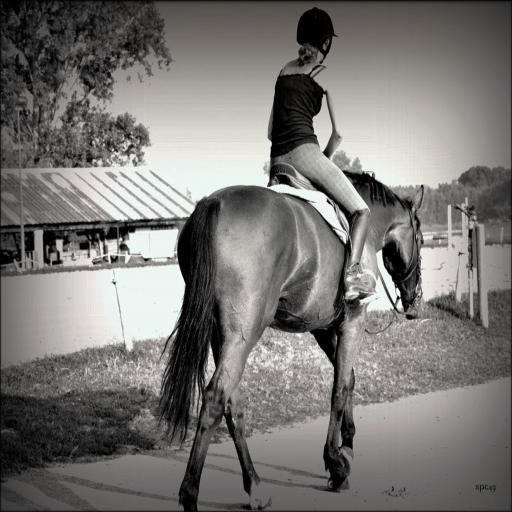horse: (154, 170, 426, 510)
